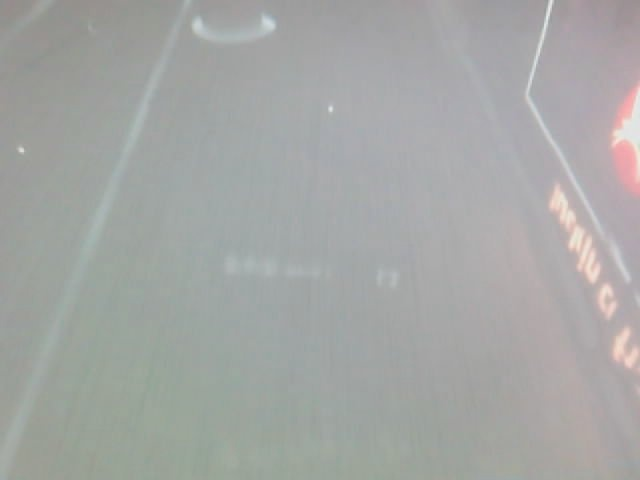袜子: (464, 176, 519, 253)
